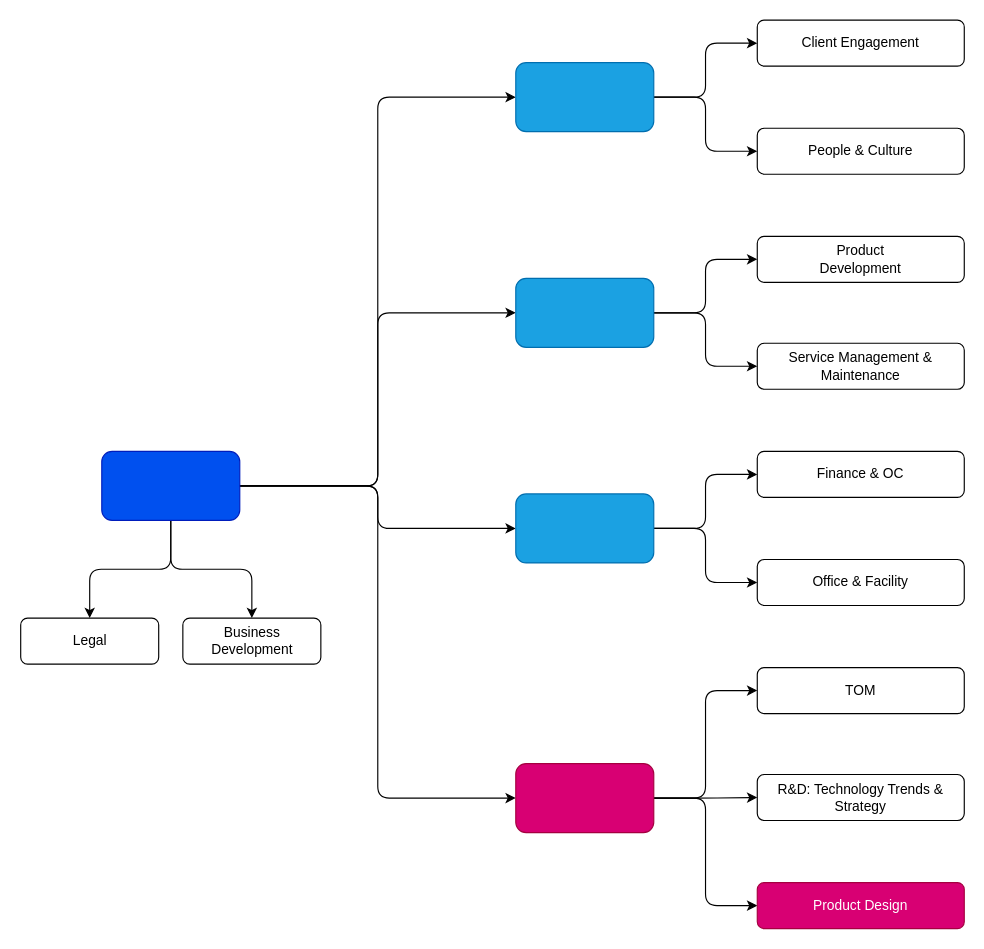
This 984x949 diagram has some shape labels left out. Each missing label, with the centre of its shape:
"Avinash" goes at point 170,485.
"Franco" goes at point 584,97.
"Frank" goes at point 584,528.
"Jeroen" goes at point 584,312.
"Vicky" goes at point 584,797.
